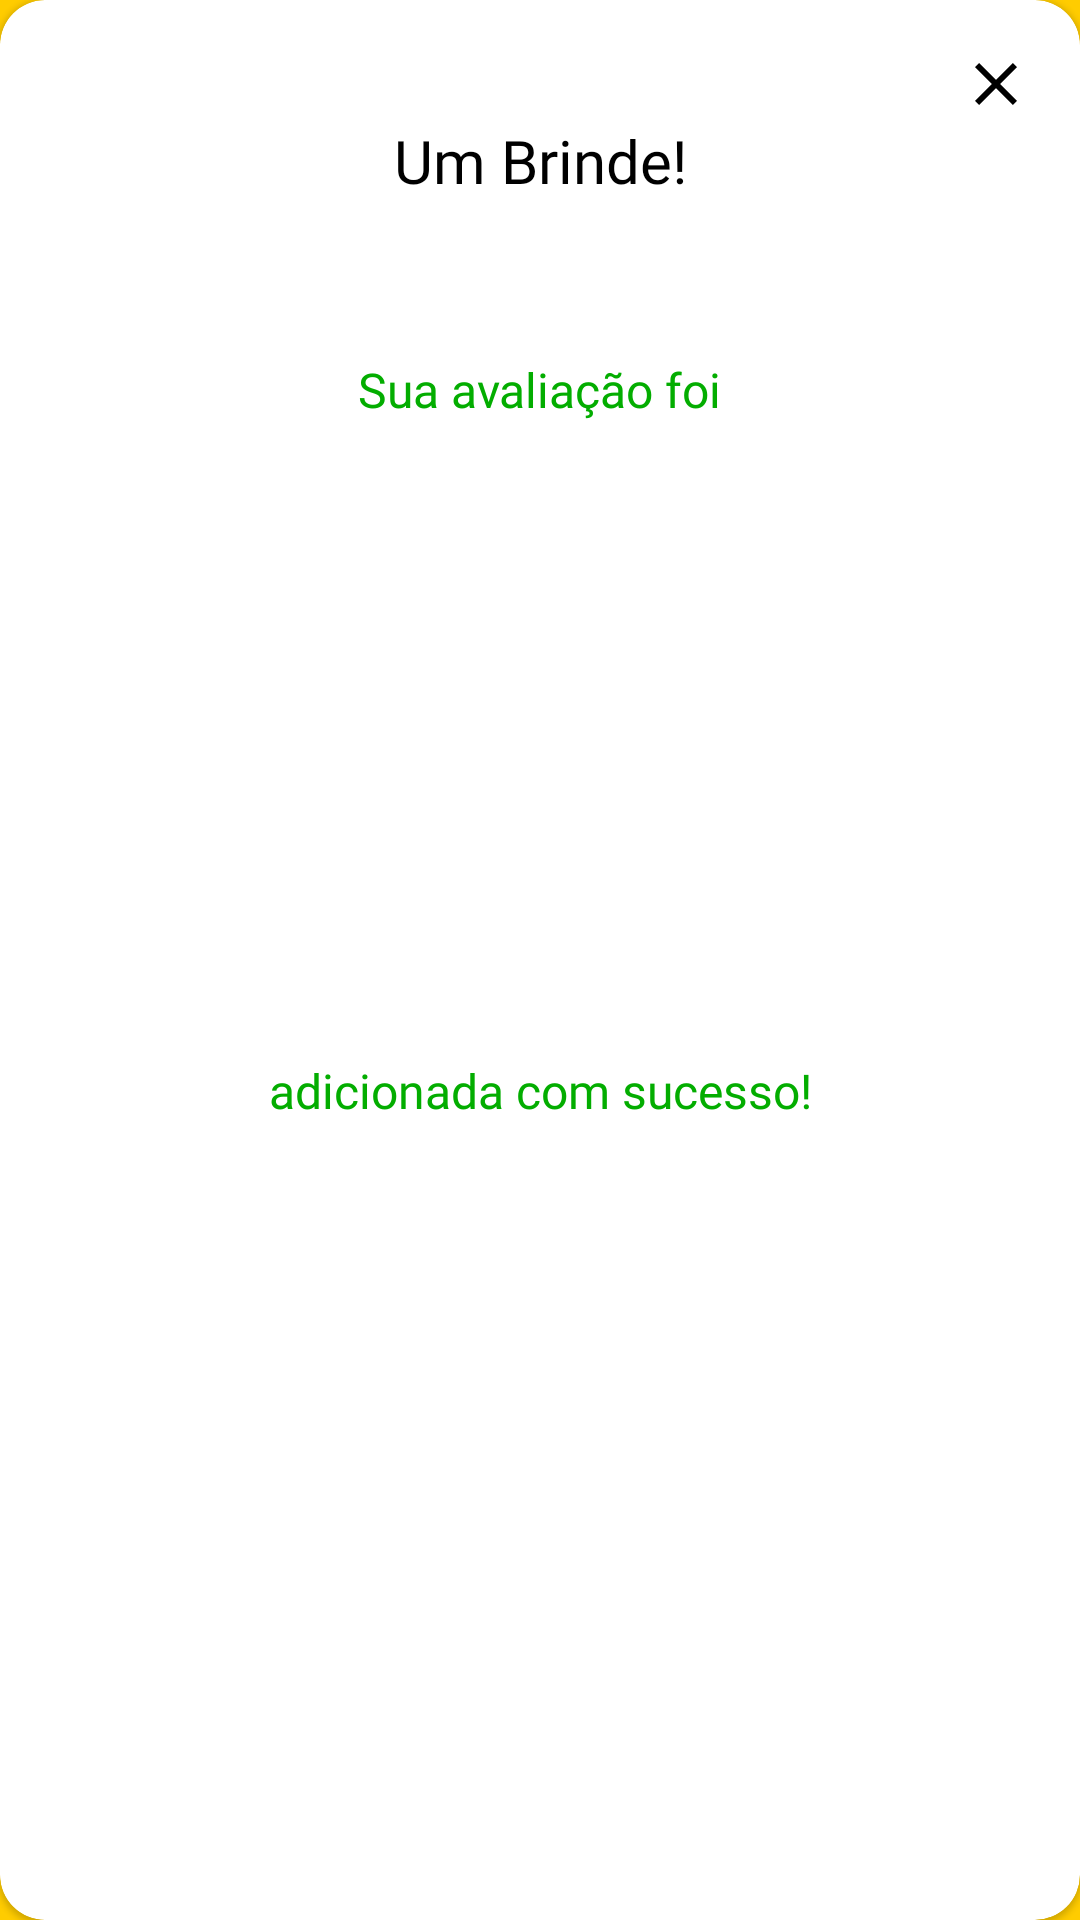

Screen size 1080 × 1920. Icon name, then its center in pixels as (x,y):
exit: (996,84)
